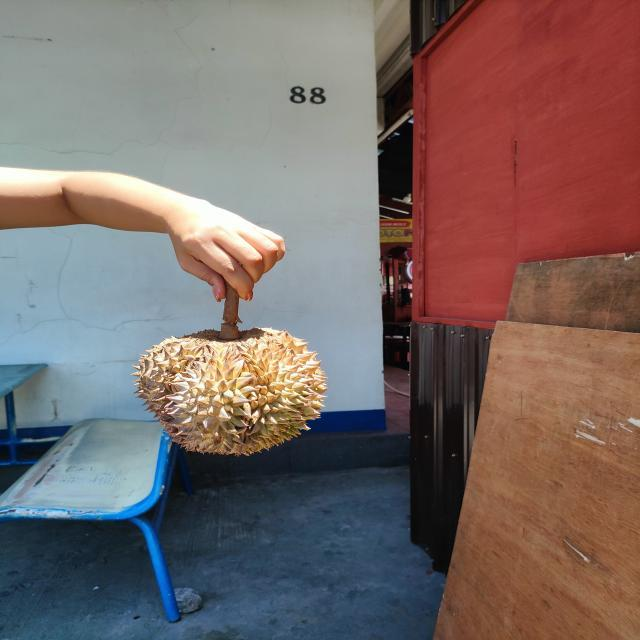mature: (129, 326, 329, 457)
